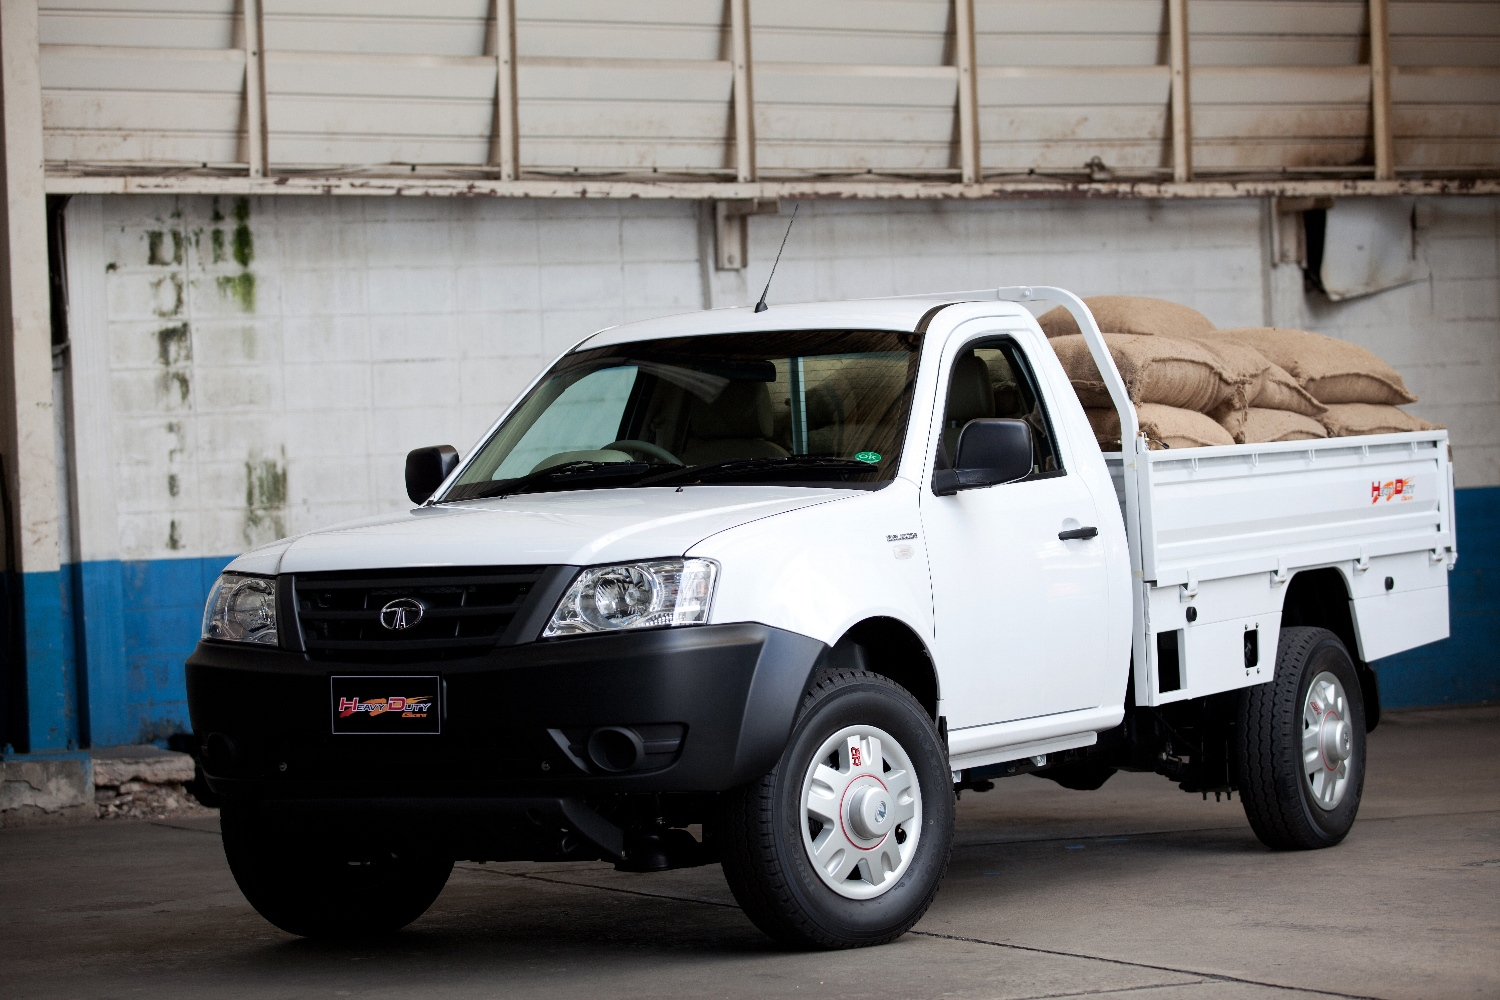pickup: (182, 300, 1464, 942)
